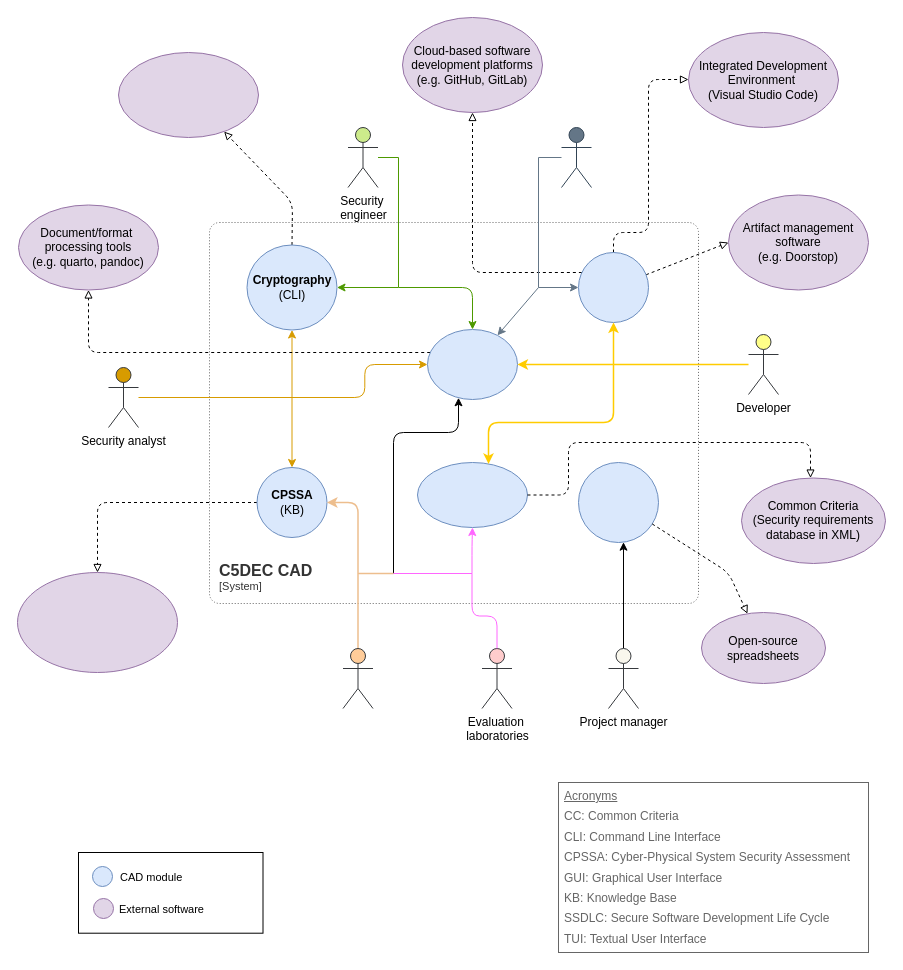
Some shapes in this 903 by 970 pixel diagram are drawn without their labels. Each missing label, with the centre of its shape:
CC Toolbox (TUI, GUI, CLI): (x=472, y=495)
Cryptographic tools (e.g. OpenSSL): (x=188, y=95)
Project Management (TUI, CLI): (x=618, y=502)
Risk manager: (x=357, y=678)
SSDLC (CLI, KB): (x=613, y=287)
Threat Analysis and Risk Assessment tools (e.g. ThreatDragon, OpenTRICK): (x=97, y=622)
Transformer (CLI): (x=472, y=364)
